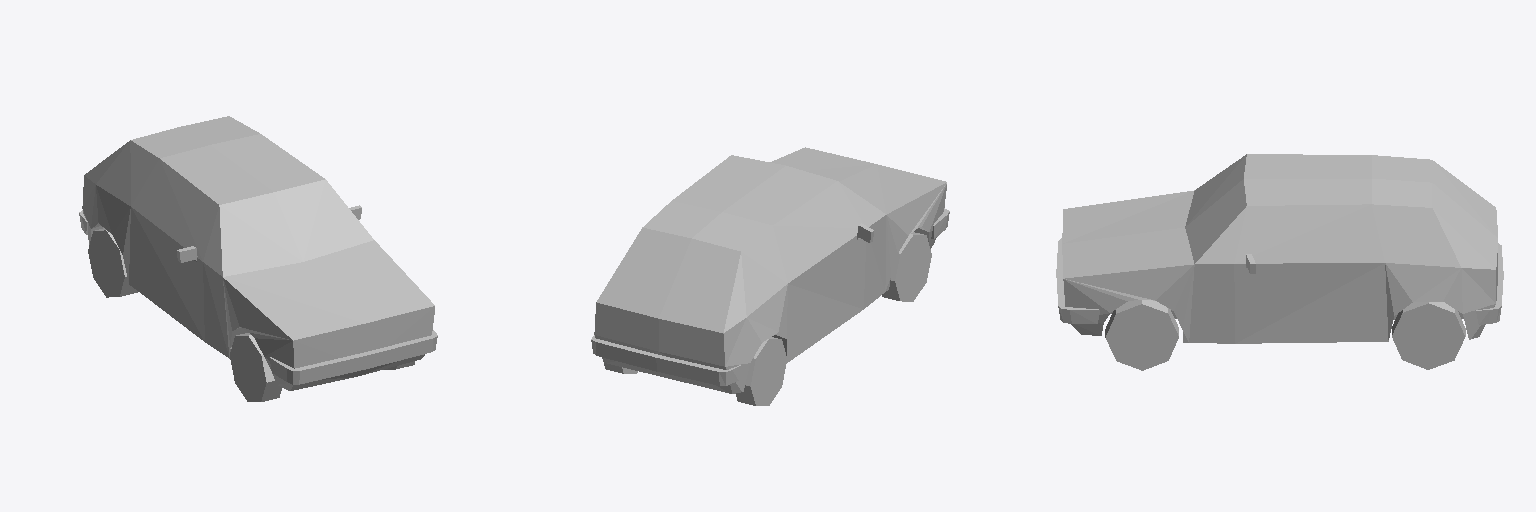
File: car_cricket.obj
3 renders of one model, left to right at view 1: azimuth 30°, elevation 25°; view 2: azimuth 150°, elevation 25°; view 3: azimuth 270°, elevation 25°, orthographic.
Parts seen in each view (by area): view 1: Car3.Body, Car3.001, Car3, Car3.003; view 2: Car3.Body, Car3.001, Car3.003, Car3; view 3: Car3.Body, Car3.002, Car3.007, Car3.008.
Part boxes in pixels (x1,y1,x2,y2): Car3.Body: (79, 116, 437, 390); Car3.001: (131, 159, 218, 341); Car3: (230, 333, 281, 401); Car3.003: (88, 228, 137, 297); Car3.Body: (591, 147, 949, 393); Car3.001: (773, 181, 873, 352); Car3.003: (736, 337, 786, 405); Car3: (882, 232, 931, 301); Car3.Body: (1056, 154, 1503, 343); Car3.002: (1234, 204, 1384, 343); Car3.007: (1105, 300, 1178, 370); Car3.008: (1392, 302, 1465, 369).
Size of the model in its own units: 2.65 by 2.14 by 5.61.